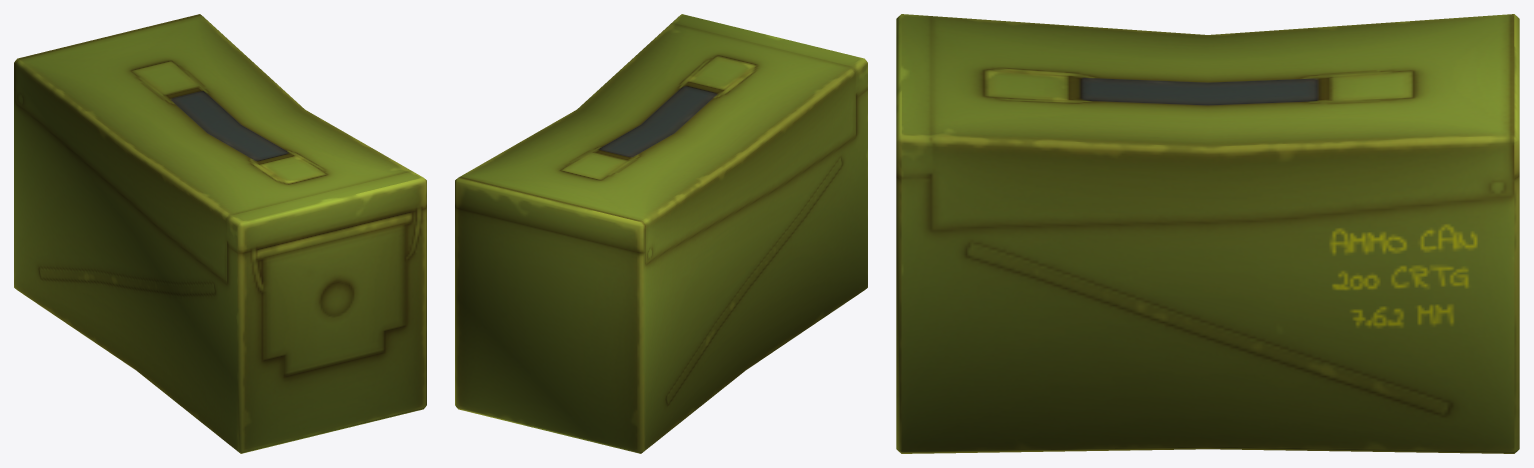
File: AmmoCan01_2.FBX
The picture shows the model from 3 angles, left to right: view 1: azimuth 30°, elevation 25°; view 2: azimuth 150°, elevation 25°; view 3: azimuth 270°, elevation 25°; orthographic projection. The views are drawn at different scales.
Parts seen in each view (by area): view 1: AmmoCan01_2; view 2: AmmoCan01_2; view 3: AmmoCan01_2.
Part boxes in pixels (box(x1,y1,x2,y2)): AmmoCan01_2: box(14, 14, 426, 453); AmmoCan01_2: box(455, 14, 867, 453); AmmoCan01_2: box(896, 14, 1519, 453).
Size of what is drawn, in the model's own units: 0.2194 by 0.2569 by 0.4566.
